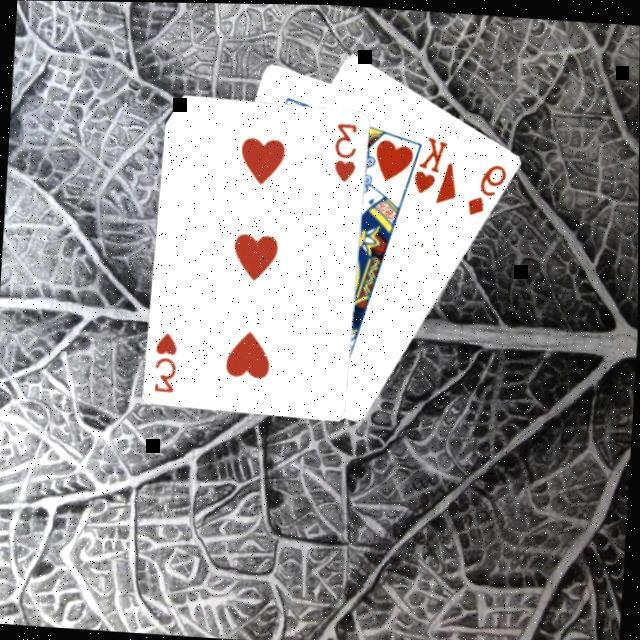3H: (150, 327, 181, 394), (328, 117, 359, 182)
9D: (462, 157, 509, 218)
KH: (408, 130, 449, 196)
